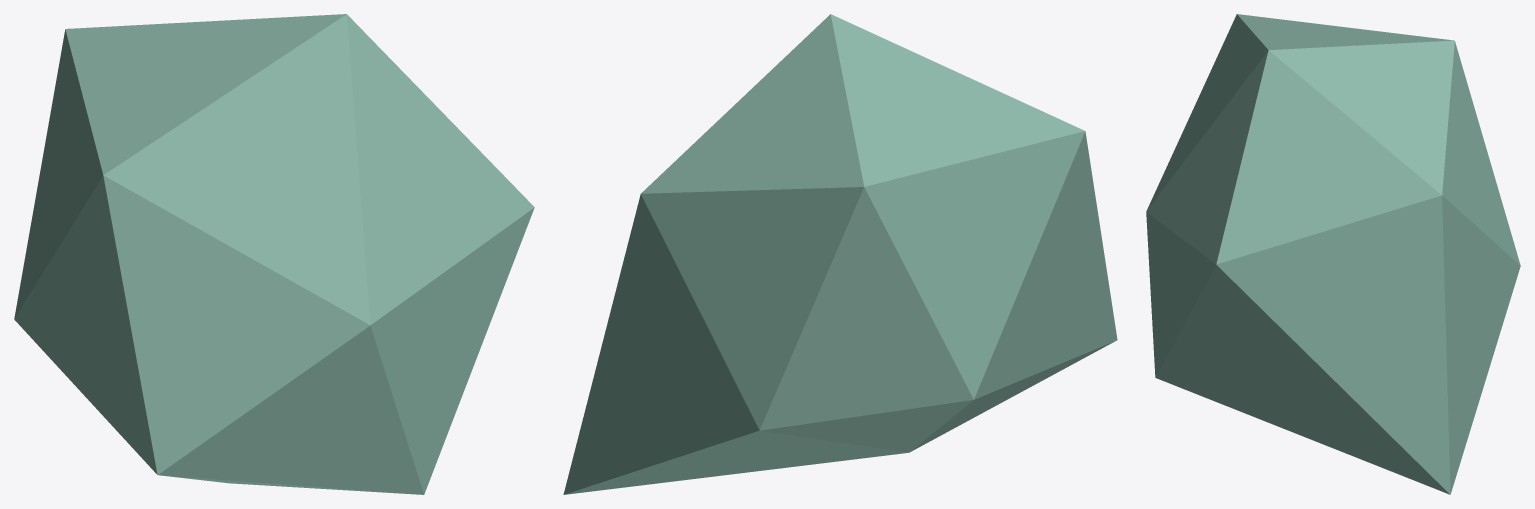
The model's file is Pedra Pequena.fbx.
3 renders of one model, left to right at view 1: azimuth 30°, elevation 25°; view 2: azimuth 150°, elevation 25°; view 3: azimuth 270°, elevation 25°, orthographic. The views are drawn at different scales.
Visible parts, largest first — view 1: Pedra Pequena.001; view 2: Pedra Pequena.001; view 3: Pedra Pequena.001.
Boxes of the visible parts, x1,y1,x2,y2 form: Pedra Pequena.001: (14, 14, 534, 494); Pedra Pequena.001: (563, 14, 1117, 494); Pedra Pequena.001: (1146, 14, 1520, 494).
Size of the model in its own units: 246 by 262 by 235.
